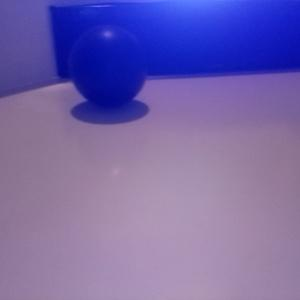dead_ball: (67, 25, 146, 107)
